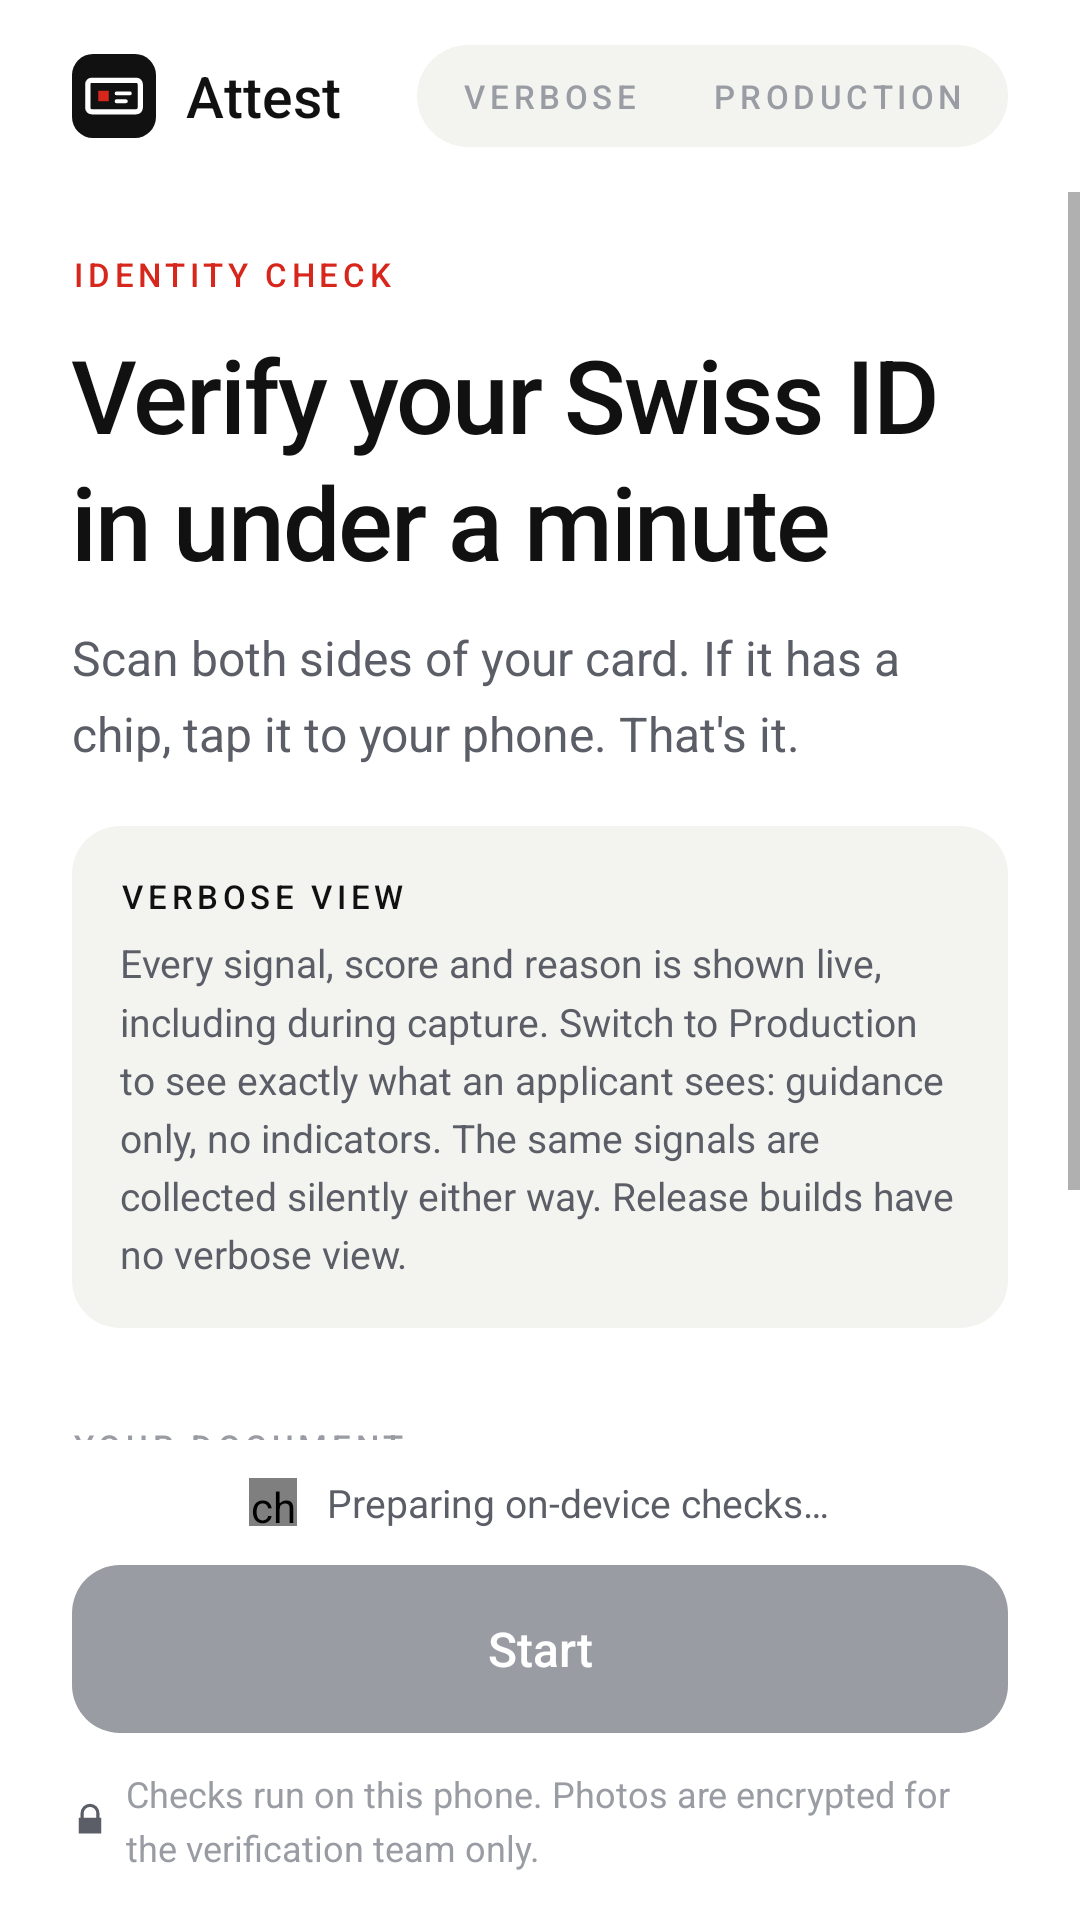

Where icons sit on this 1080 × 1920 app screen, as (x1, y1, x2, y2):
lock: (78, 1804, 102, 1834)
